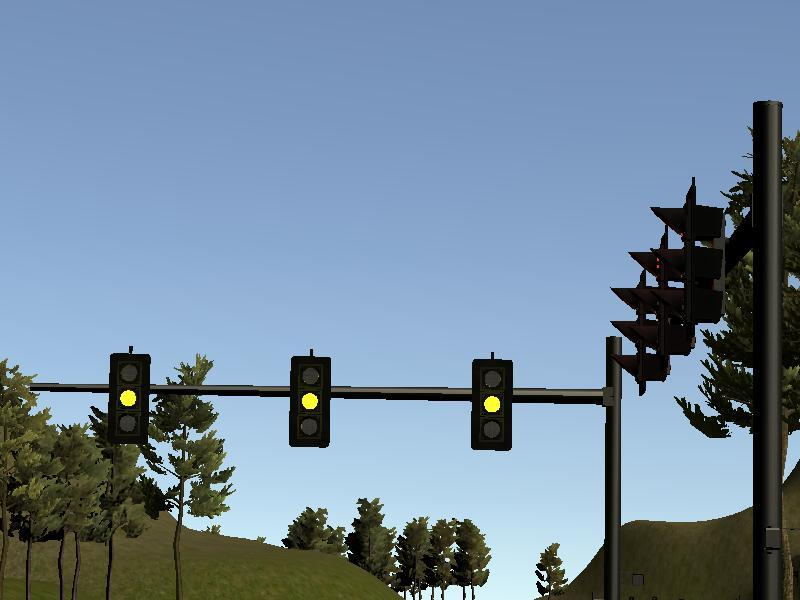Yellow: (471, 358, 513, 451), (289, 357, 331, 448), (109, 353, 149, 443)
